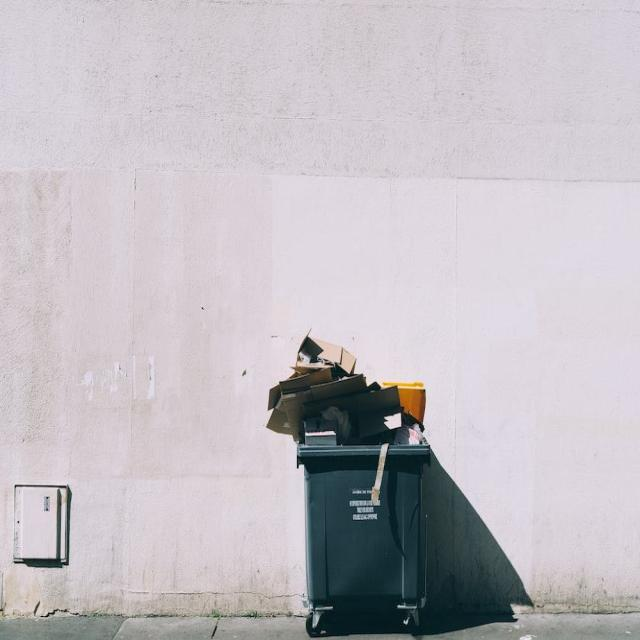cardboard: (257, 312, 419, 446)
